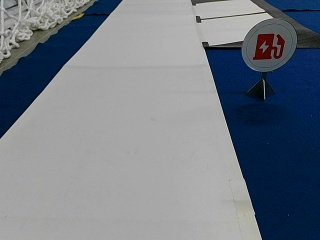battery: (242, 16, 296, 72)
